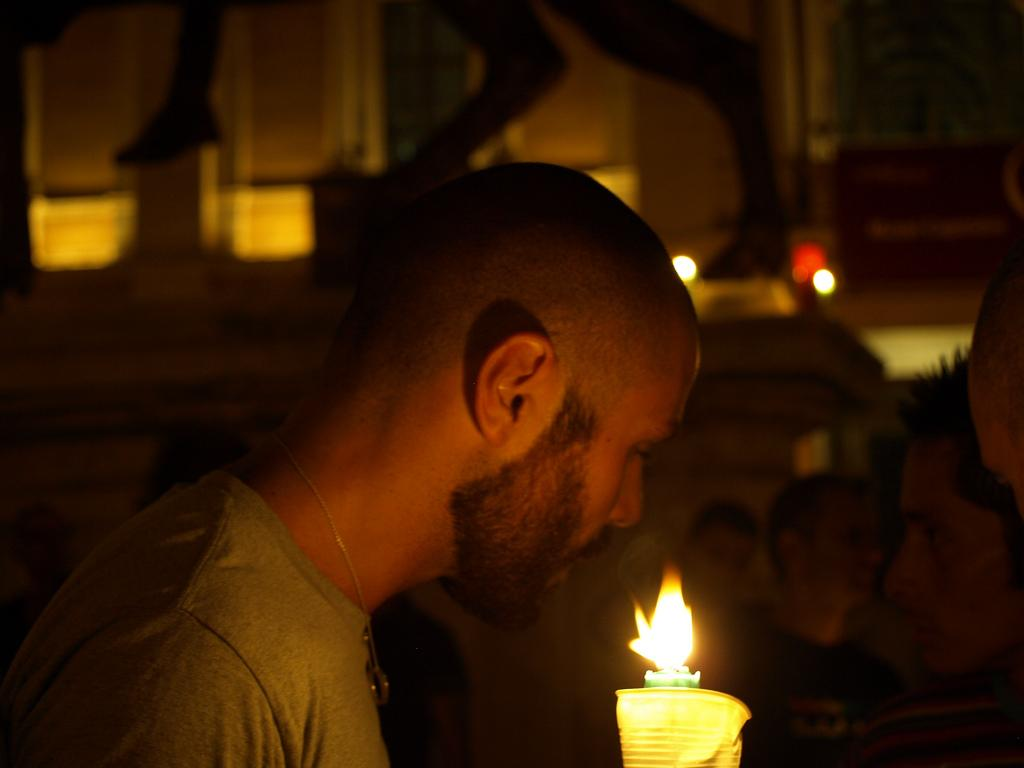fire: (636, 570, 704, 670)
